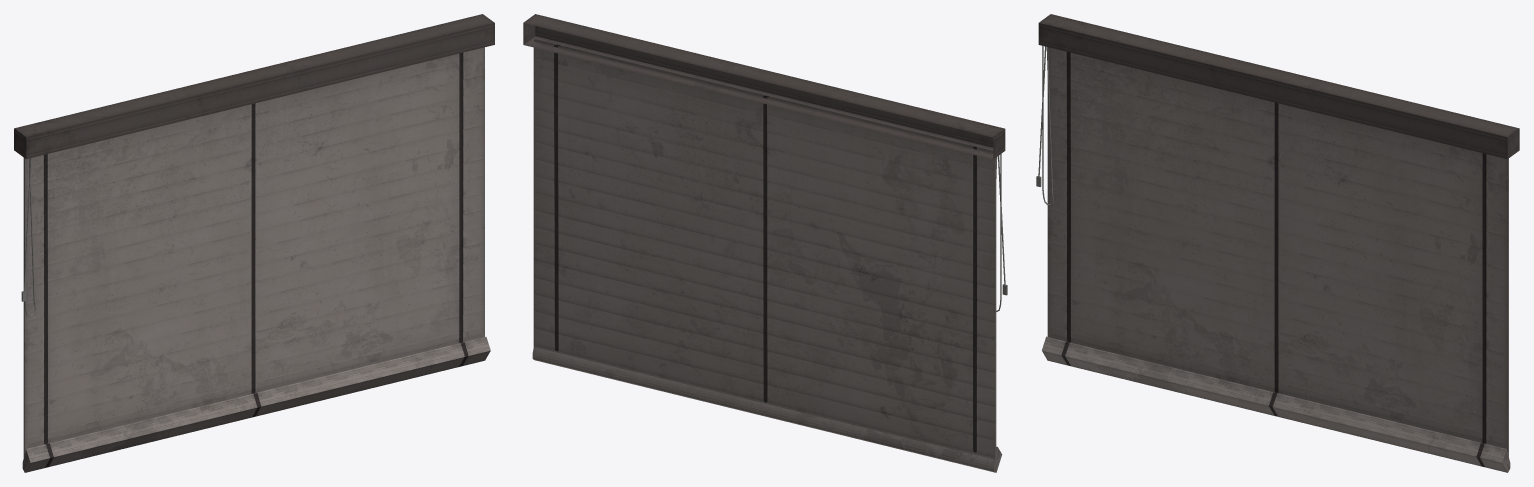
Rendered from dirty_blind.glb.
3 renders of one model, left to right at view 1: azimuth 30°, elevation 25°; view 2: azimuth 150°, elevation 25°; view 3: azimuth 330°, elevation 25°, orthographic.
Visible parts, largest first — view 1: Box007, Box006, Box008, Cylinder001; view 2: Box007, Box006, Box008, Cylinder001; view 3: Box007, Box006, Box008, Cylinder001.
Part boxes in pixels (x1=…): Box007: x1=23, y1=47, x2=484, y2=459; Box006: x1=14, y1=14, x2=494, y2=158; Box008: x1=22, y1=337, x2=490, y2=472; Cylinder001: x1=21, y1=158, x2=36, y2=316; Box007: x1=533, y1=39, x2=996, y2=460; Box006: x1=523, y1=14, x2=1005, y2=159; Box008: x1=532, y1=347, x2=1002, y2=472; Cylinder001: x1=996, y1=154, x2=1007, y2=311; Box007: x1=1047, y1=47, x2=1508, y2=456; Box006: x1=1038, y1=14, x2=1519, y2=159; Box008: x1=1042, y1=336, x2=1510, y2=472; Cylinder001: x1=1036, y1=46, x2=1054, y2=205.
Bounding box in the file's own units: 3.37 × 2.32 × 0.1573.
1 material, 1 textured.
